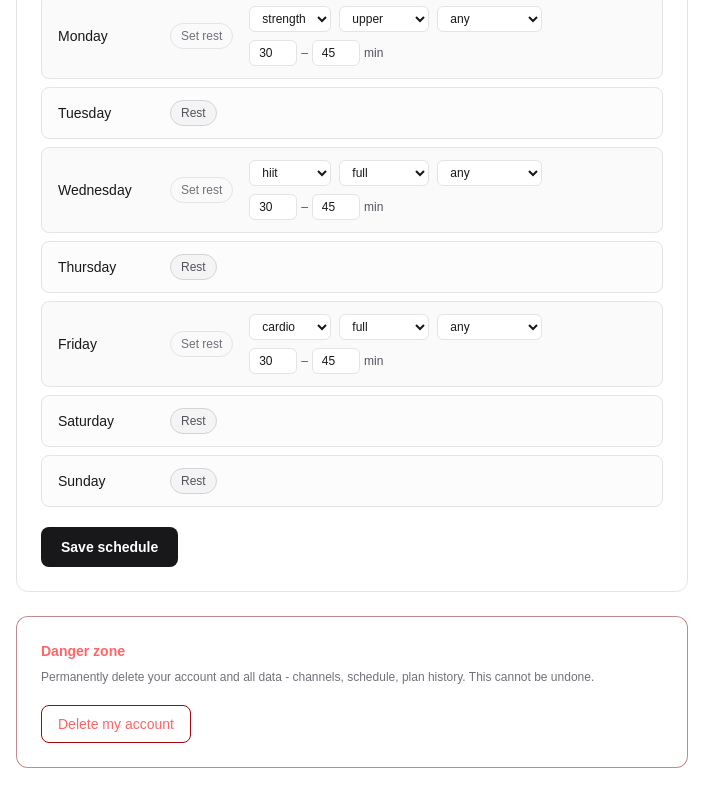
Test: SettingsPage - schedule › shows error message when updateSchedule fails
(page scrolled)
Click the button "Save schedule".
click(110, 547)  # box left=41, top=527, right=178, bottom=567
(page scrolled)
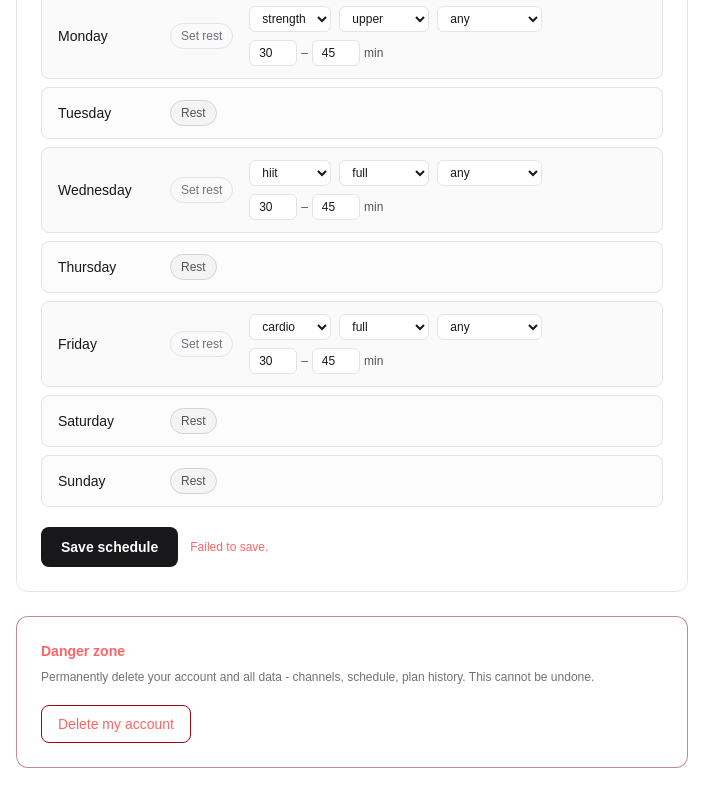
expect the text "Failed to save." is shown: met, box left=190, top=539, right=268, bottom=555
